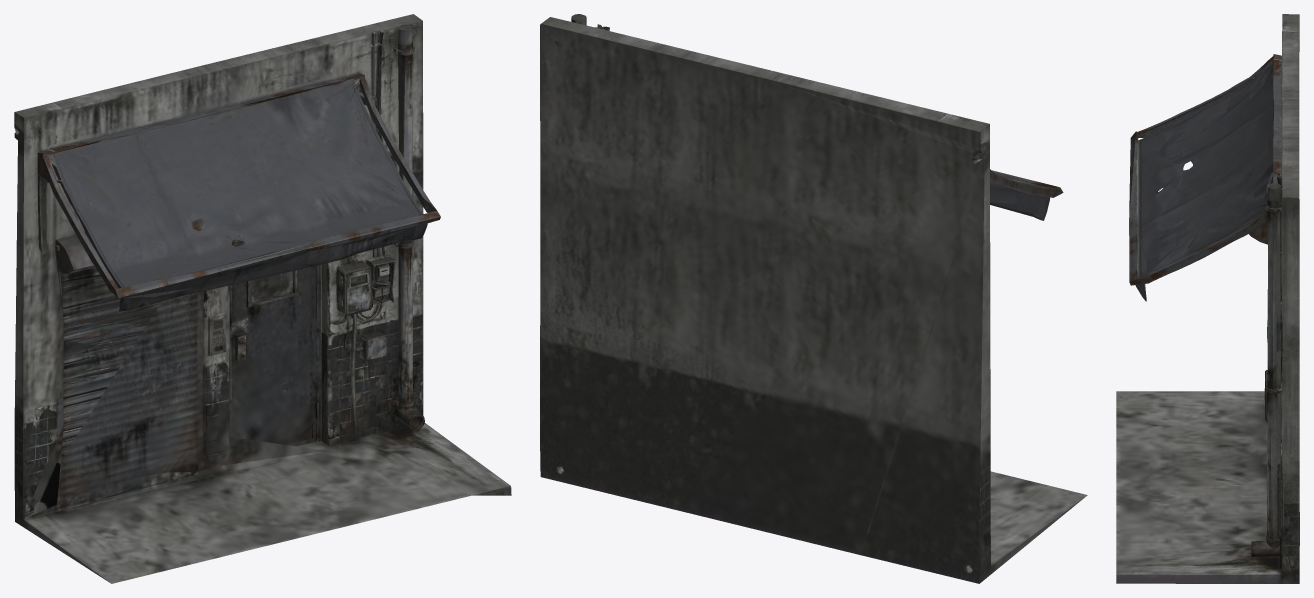
Rendered from ncz-shutter-front.glb.
3 renders of one model, left to right at view 1: azimuth 30°, elevation 25°; view 2: azimuth 150°, elevation 25°; view 3: azimuth 270°, elevation 25°, orthographic. The views are drawn at different scales.
Parts seen in each view (by area): view 1: output_unwrapped; view 2: output_unwrapped; view 3: output_unwrapped.
Boxes of the visible parts, <box> form: output_unwrapped: <box>14,14,511,583</box>; output_unwrapped: <box>540,14,1087,583</box>; output_unwrapped: <box>1116,14,1299,583</box>.
Size of the model in its own units: 1.9 by 1.88 by 0.8032.
Materials: 1 (1 with a texture image).
